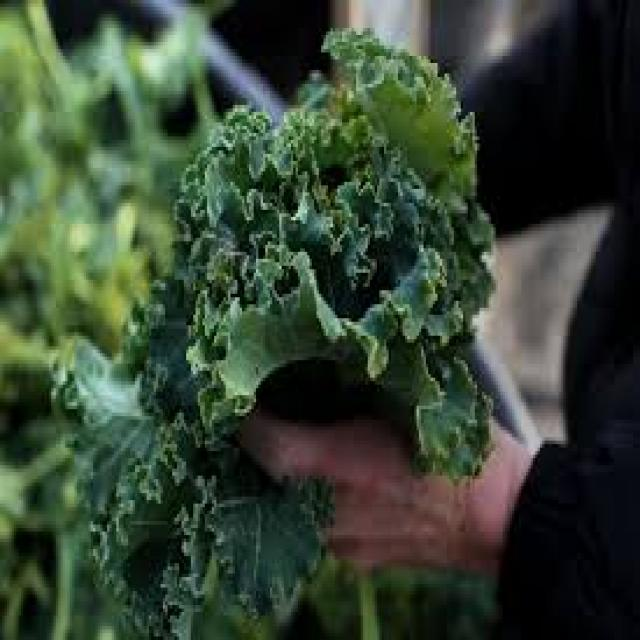organic waste: (47, 24, 491, 636), (0, 0, 219, 637)
